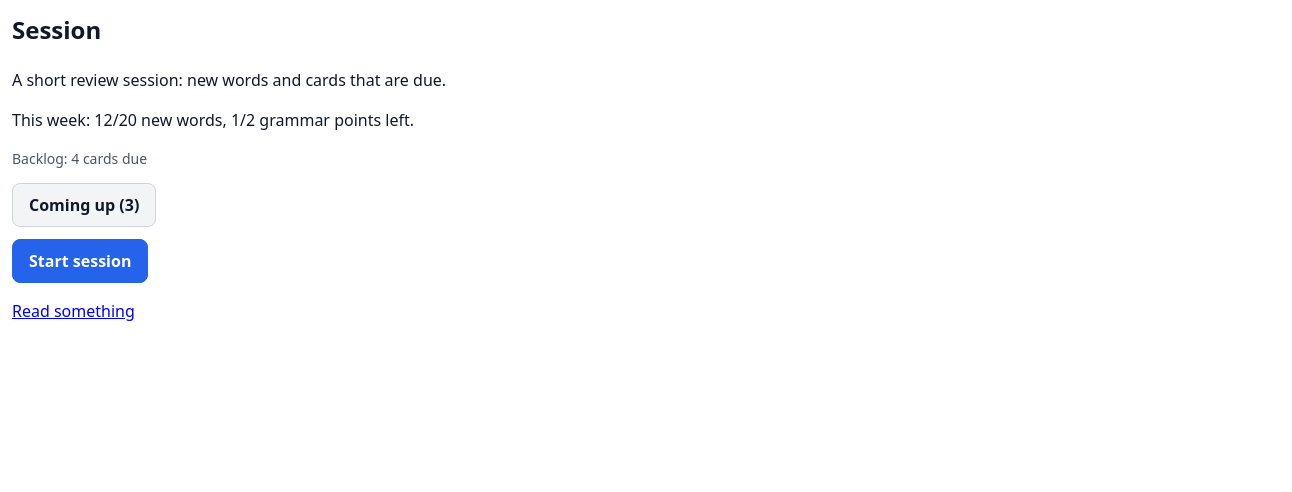
Test: queue summary › shows the weekly budget, backlog and a collapsible coming-up list
The image size is (1292, 492).
Check: the text "This week: 12/20 new words, 1/2 grammar points left." is shown, box 12,109 -> 414,131
Check: the text "Backlog: 4 cards due" is shown, box 12,149 -> 147,168
Step 1. Click the button "Coming up (3)" → (84, 205), box 12,183 -> 156,227
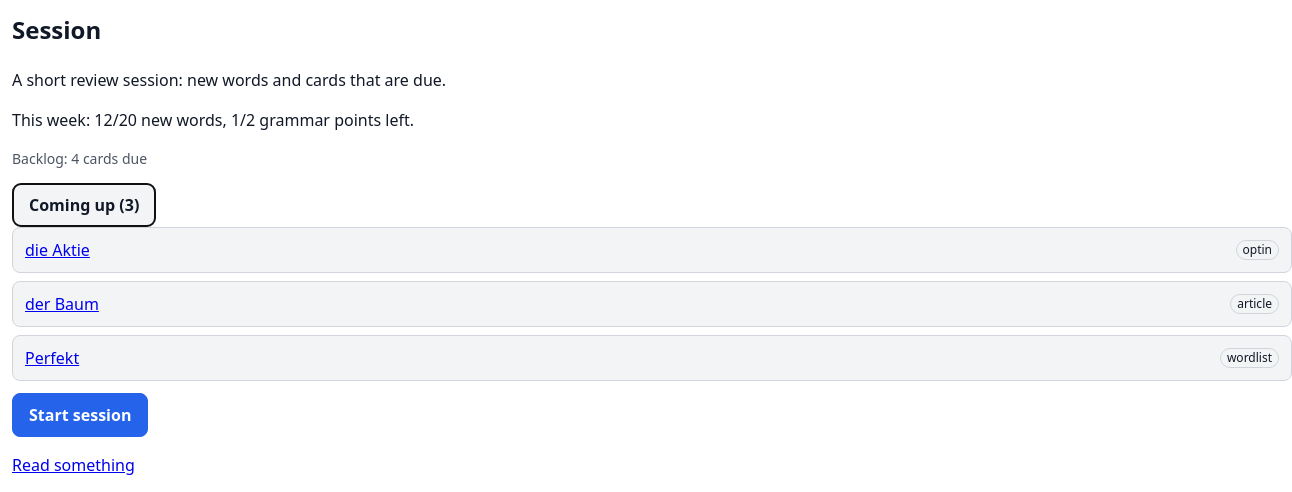
Check: the text "die Aktie" is shown, box 25,239 -> 90,261
